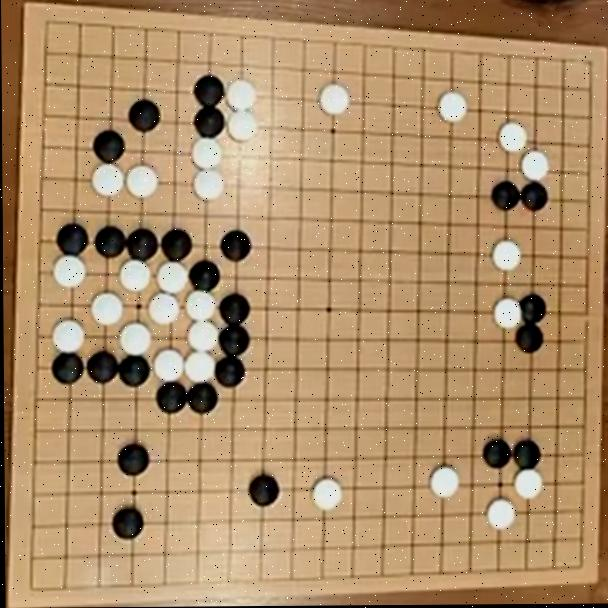corners: (7, 566, 60, 607), (23, 3, 71, 47), (559, 546, 595, 580), (569, 51, 608, 81)
